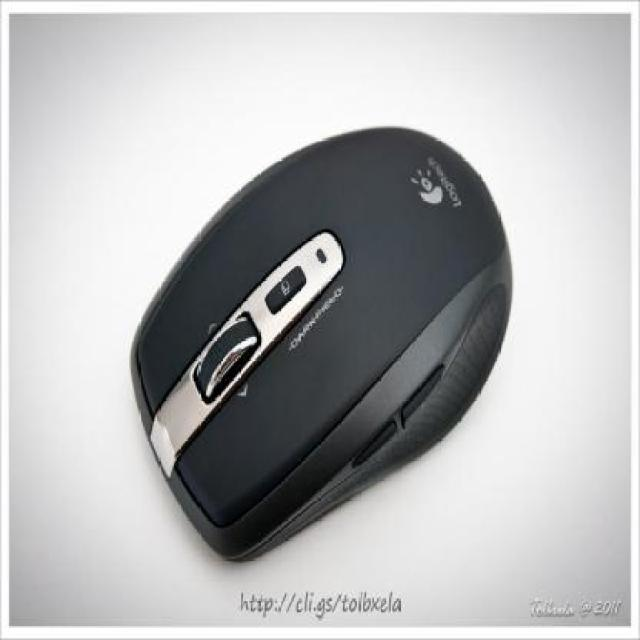mouse: (130, 122, 509, 556)
